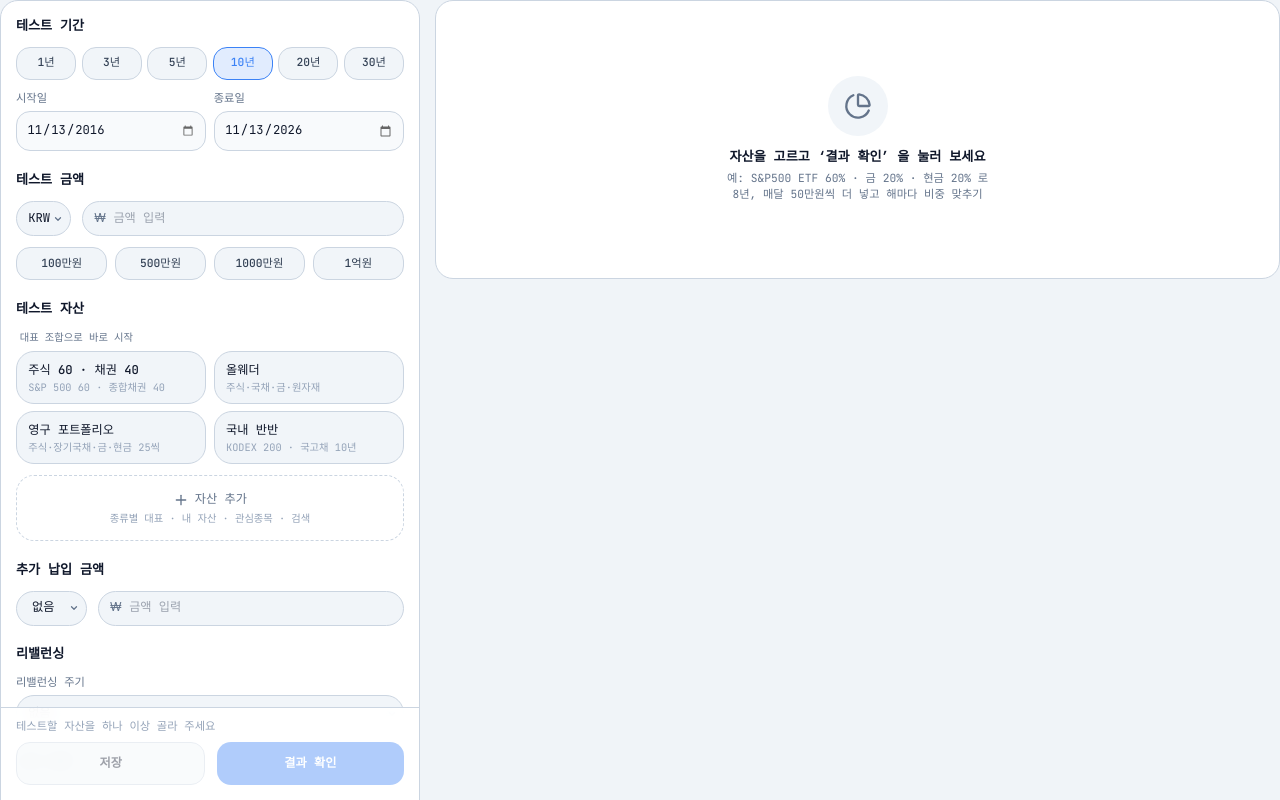
Test: 자산을 담는다 › 첫 자산은 100%, 그 뒤로 담는 것은 0% 로 들어온다
The width and height of the screenshot is (1280, 800).
Click the button labelled "자산 추가 종류별 대표 · 내 자산 · 관심종목 · 검색". click: coordinates (210, 508)
box: top-left (16, 475), bottom-right (404, 541)
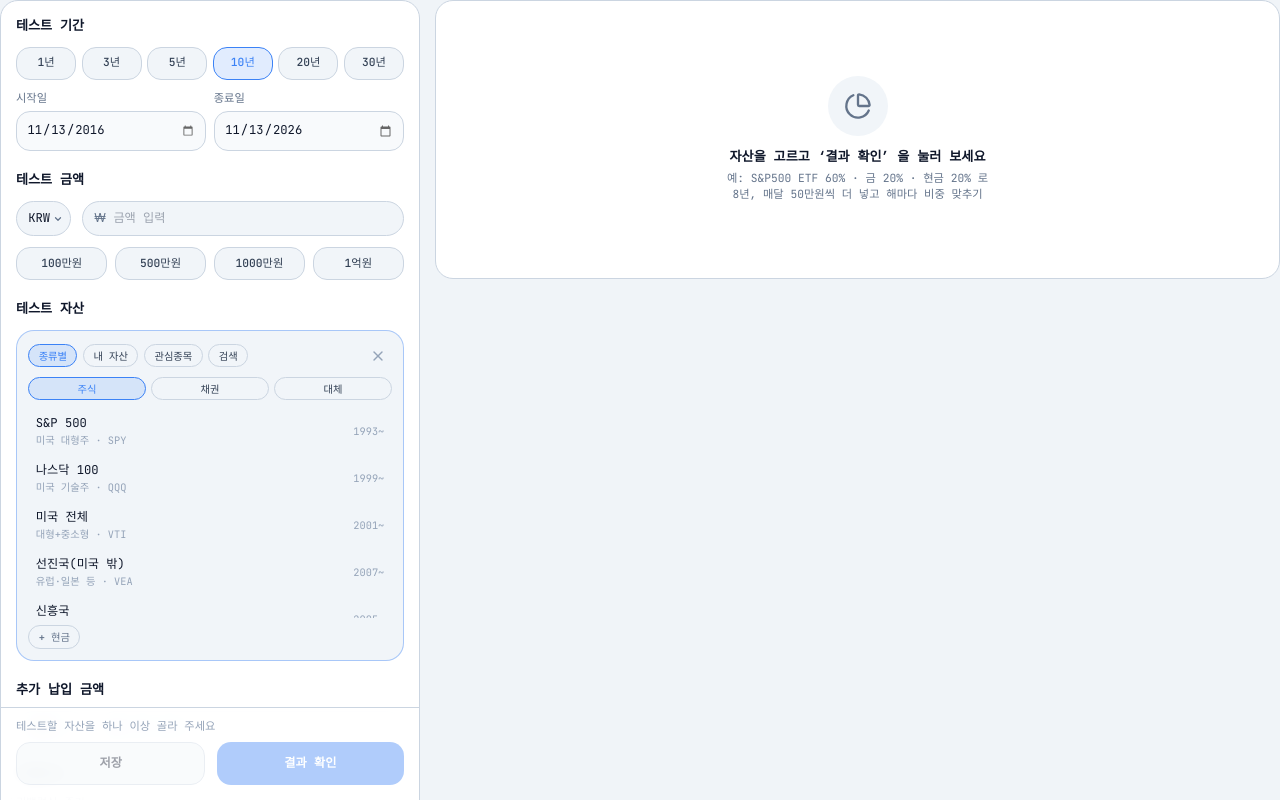
Click the button with aria-label "검색해서". click: coordinates (228, 356)
box: top-left (208, 344), bottom-right (248, 367)
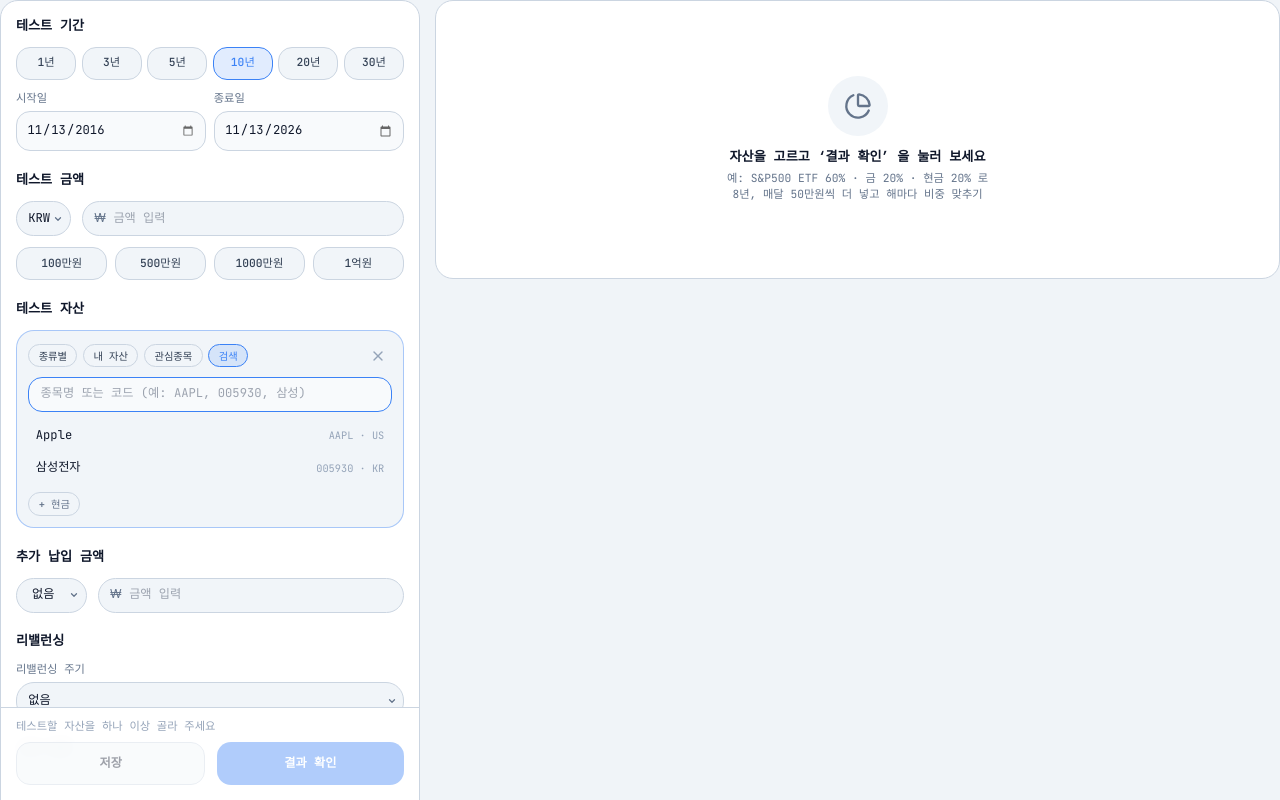
Click the button with aria-label "Apple 담기". click: coordinates (54, 435)
box: top-left (28, 419), bottom-right (392, 452)
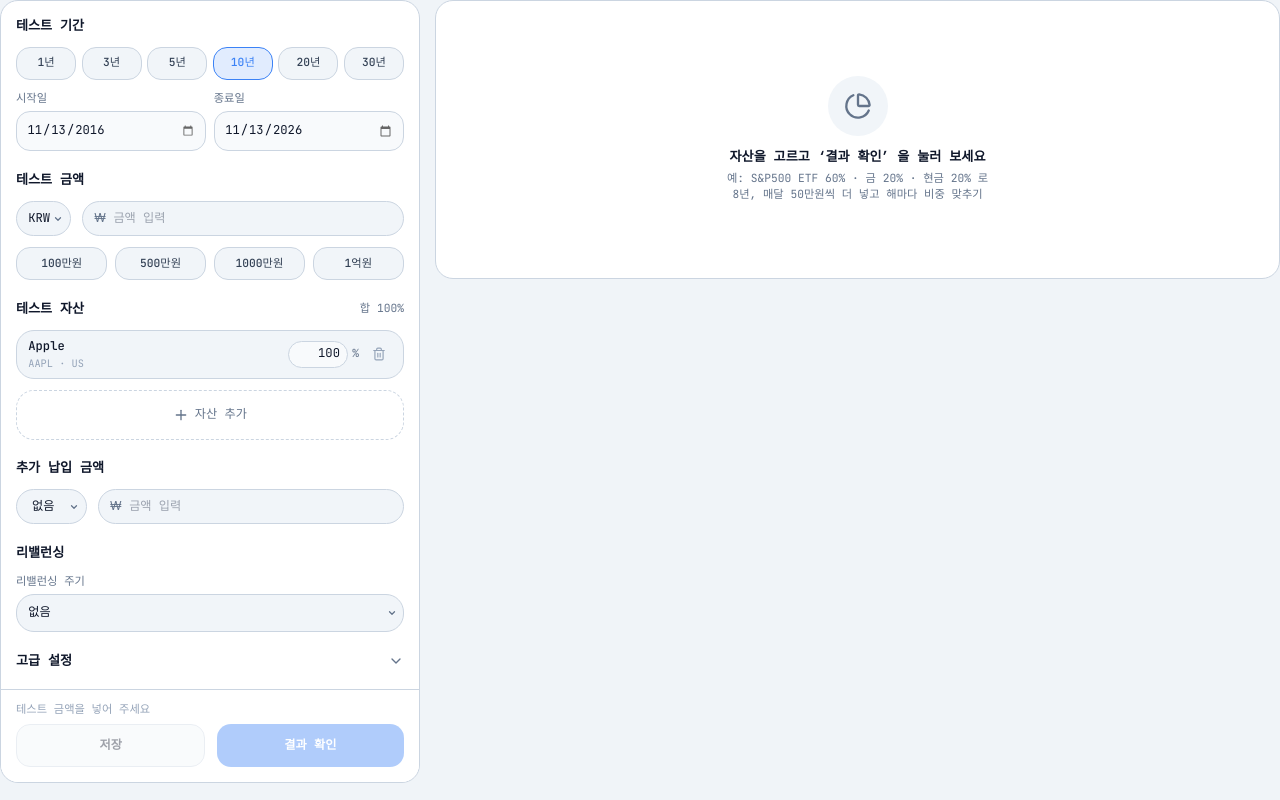
expect the number field named "Apple 비중 (%)" holds "100": met, box top-left (288, 340), bottom-right (348, 368)
Click the button labelled "자산 추가". click: coordinates (210, 415)
box: top-left (16, 390), bottom-right (404, 440)
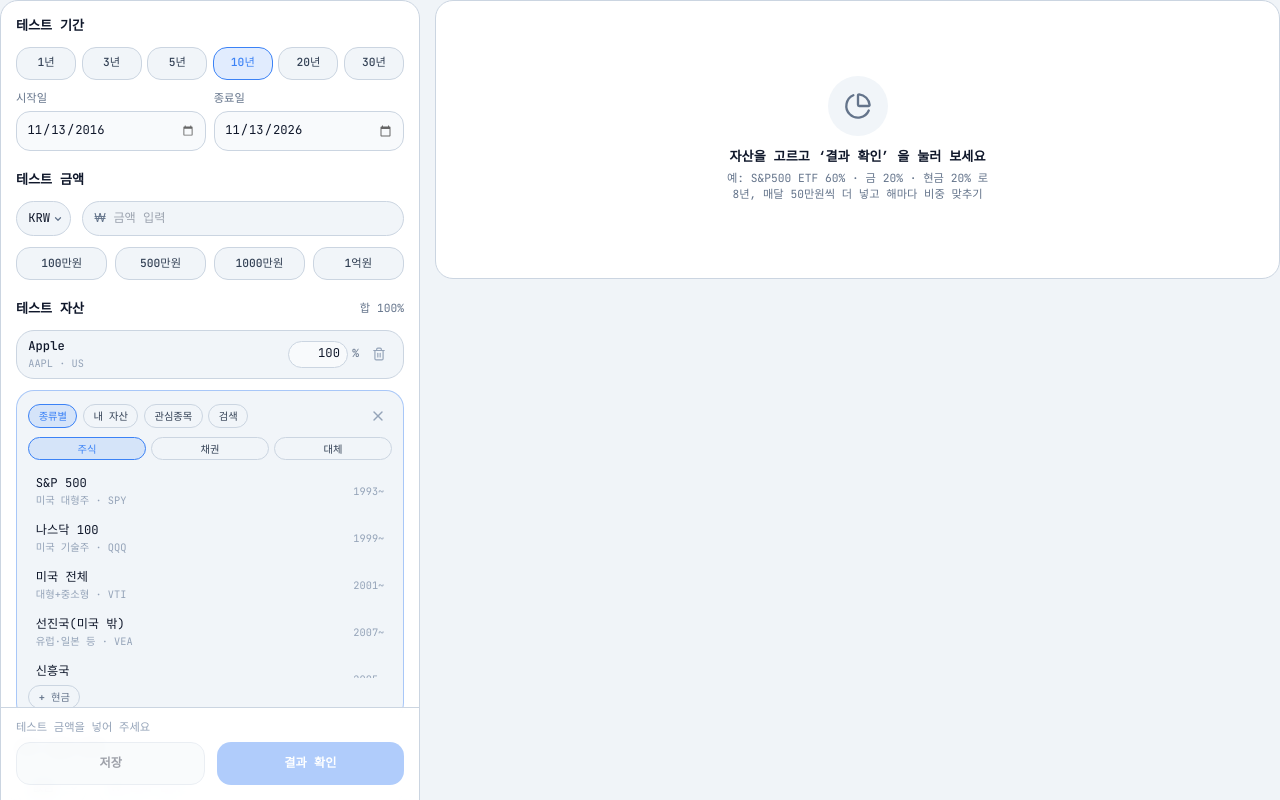
Click the button with aria-label "검색해서". click: coordinates (228, 416)
box: top-left (208, 404), bottom-right (248, 428)
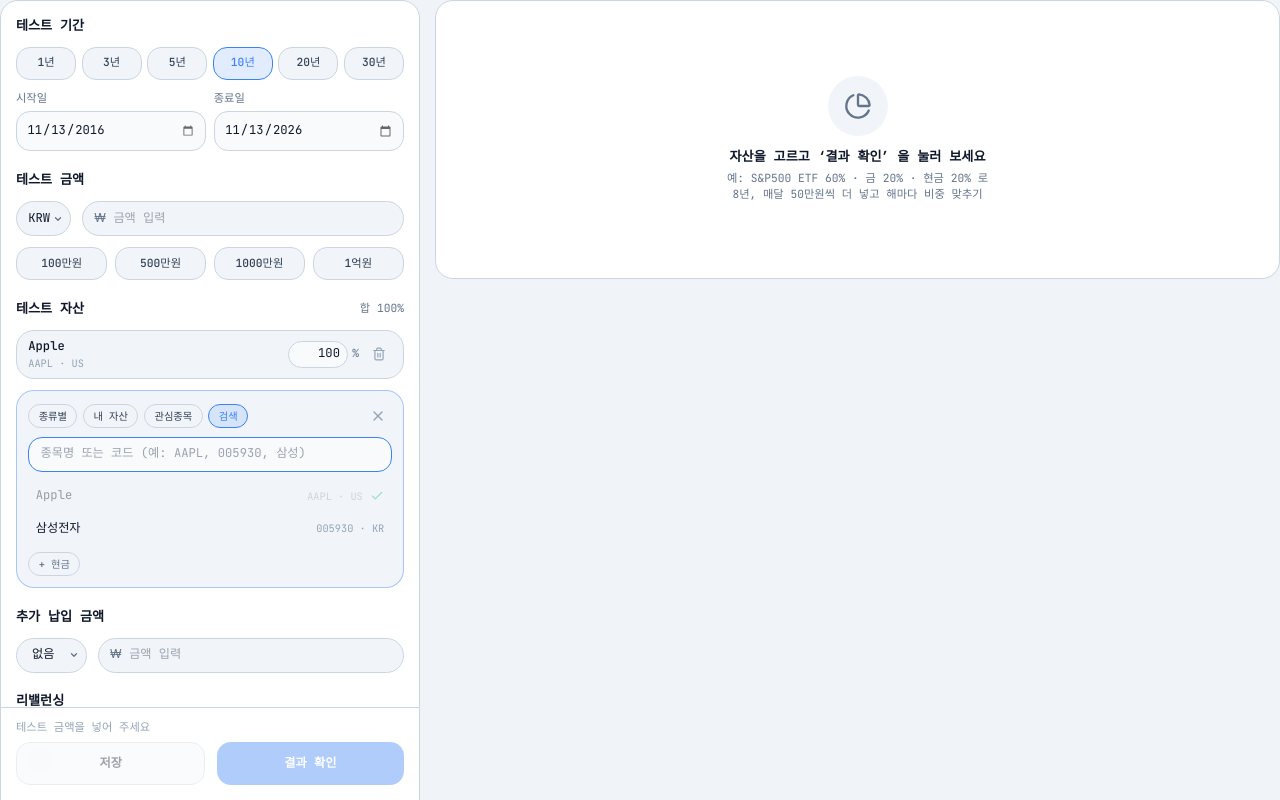
Click the button with aria-label "삼성전자 담기". click: coordinates (58, 528)
box: top-left (28, 512), bottom-right (392, 545)
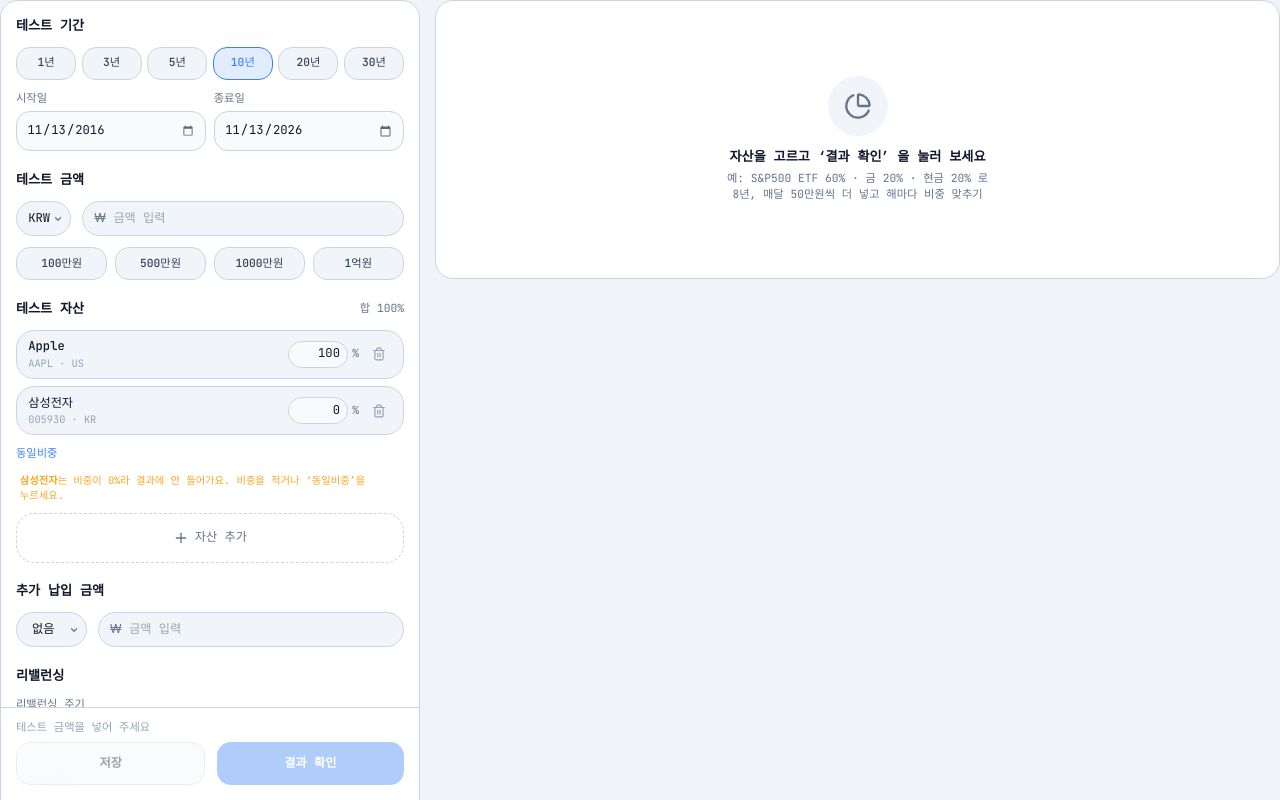
expect the number field named "Apple 비중 (%)" holds "100": met, box top-left (288, 340), bottom-right (348, 368)
expect the number field named "삼성전자 비중 (%)" holds "0": met, box top-left (288, 397), bottom-right (348, 424)
